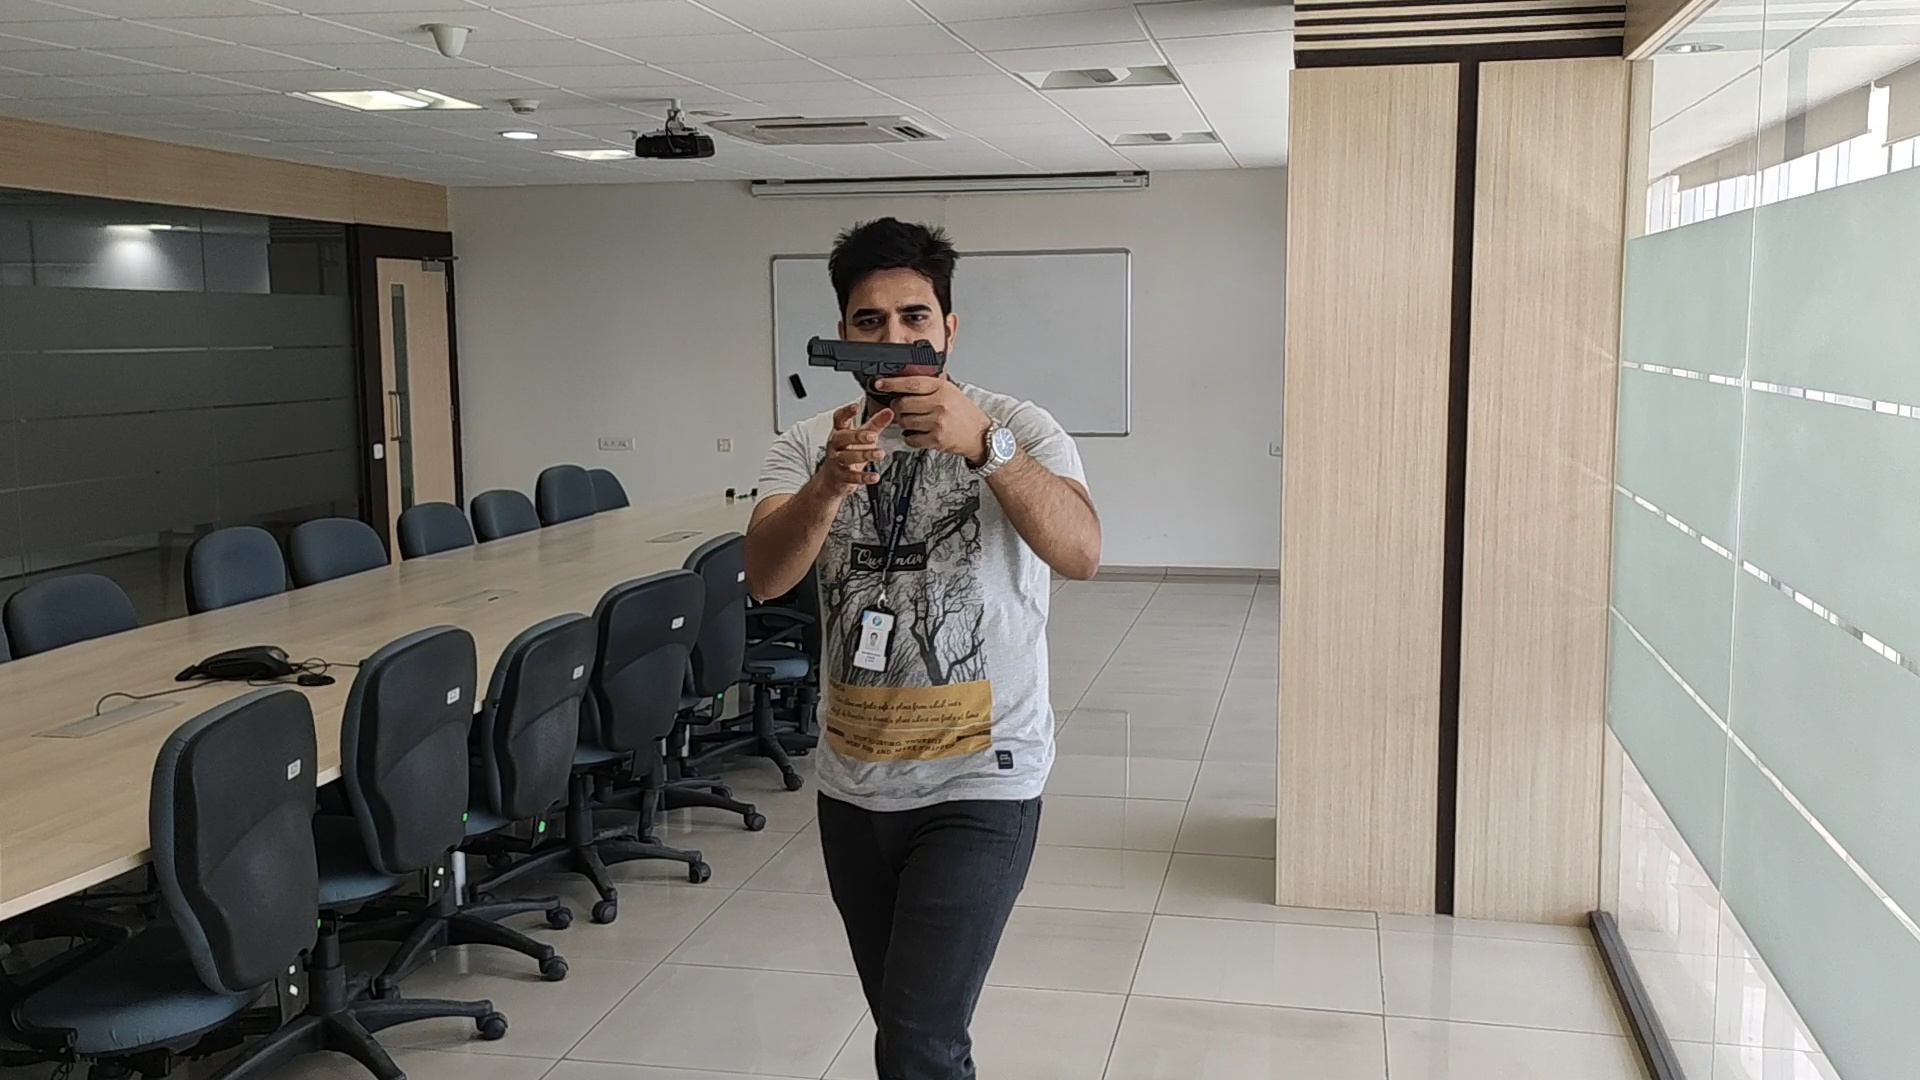gun: (807, 336, 945, 376)
